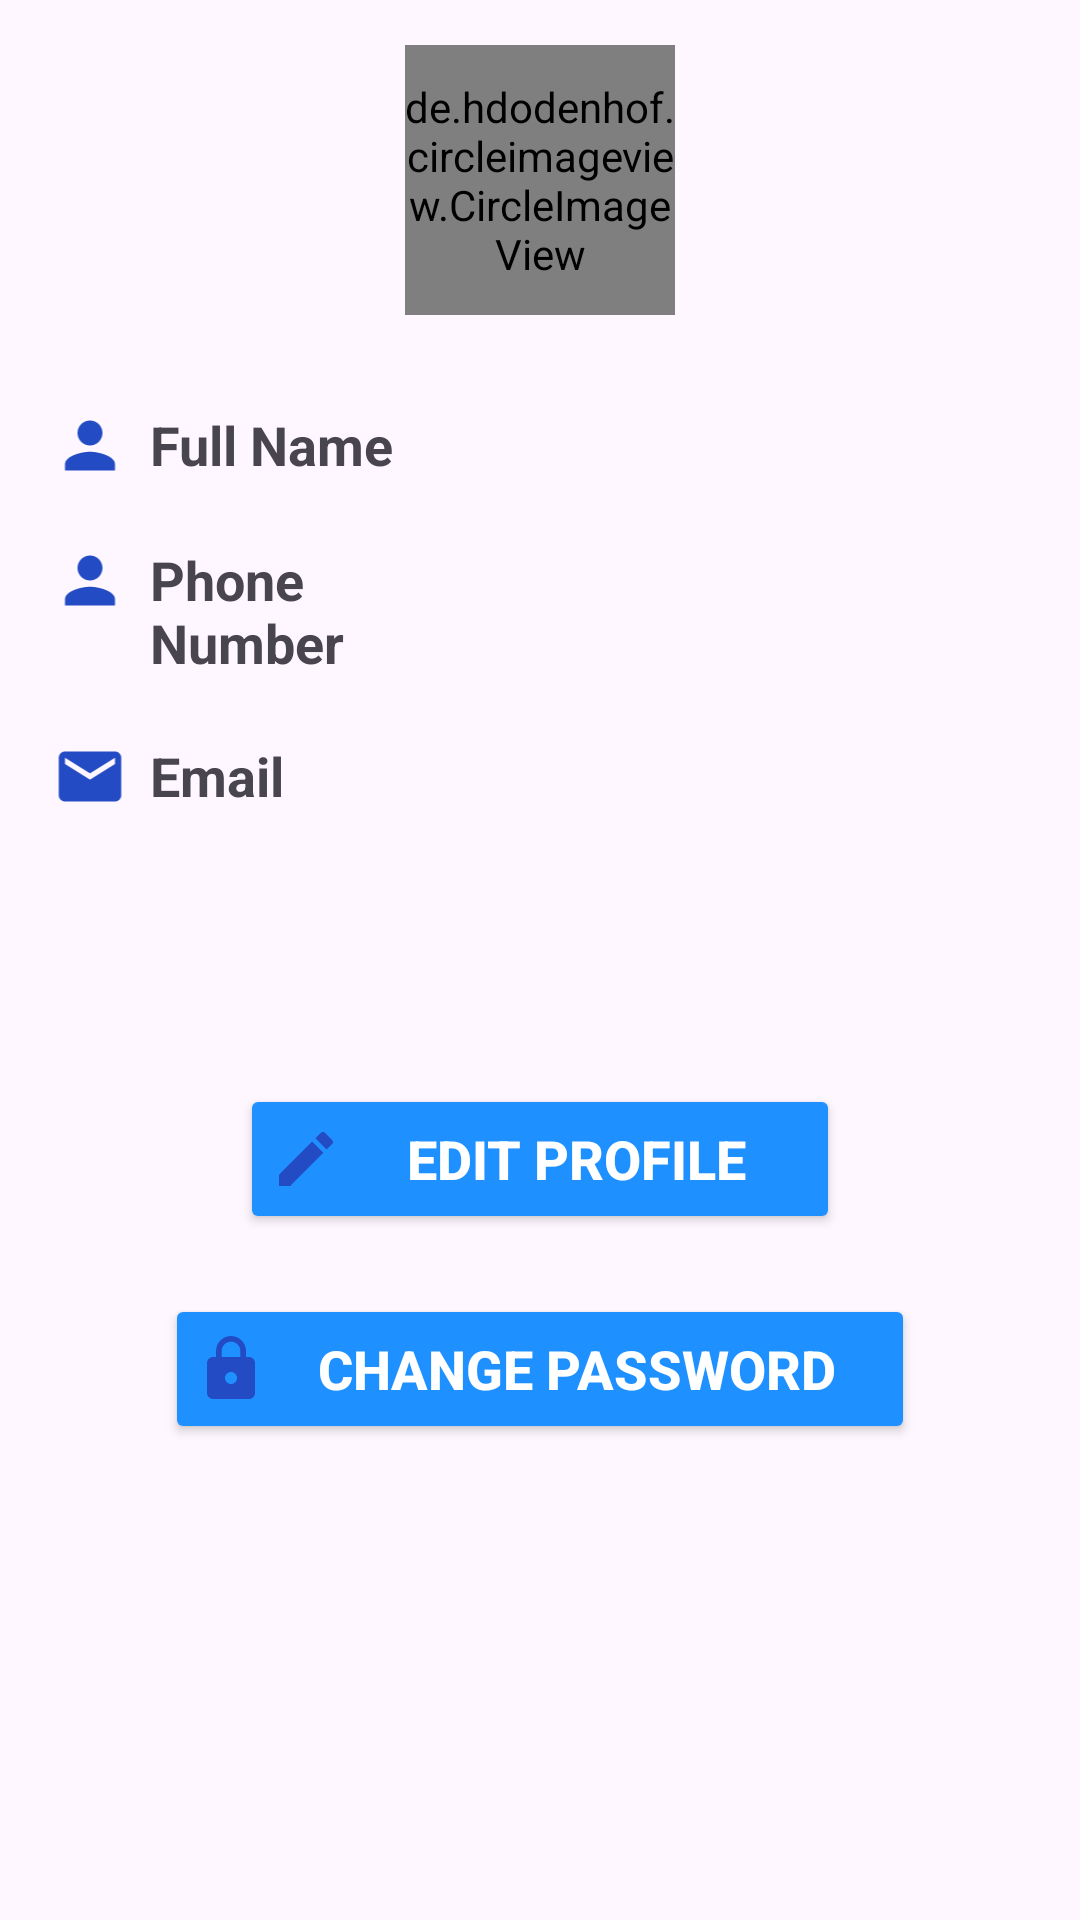

Screen size 1080w x 1920h. Icon name, then its box in pixels as bbox=(x1, y1, x2, y2):
person: bbox=(64, 420, 116, 471), bbox=(64, 555, 116, 606)
